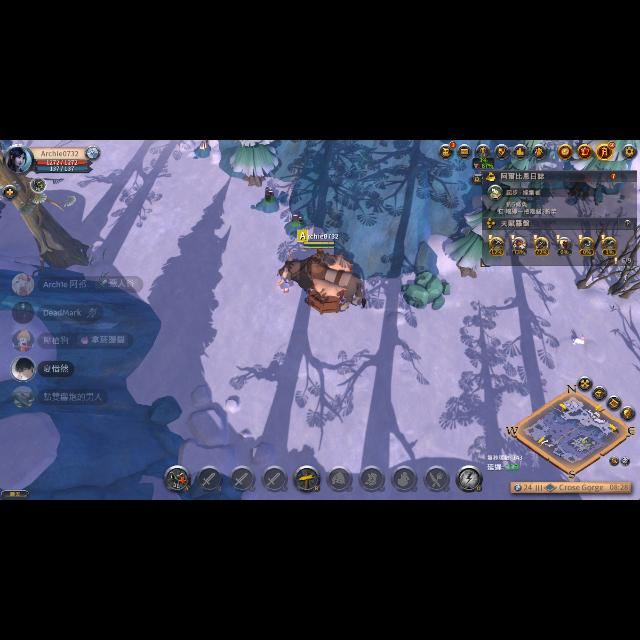mine_ii: (192, 140, 212, 158)
mine_iii: (257, 187, 281, 213), (290, 212, 306, 236)
